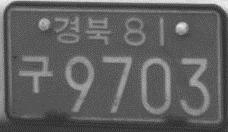0: (137, 57, 171, 115)
1: (156, 15, 167, 47)
3: (178, 56, 211, 119)
7: (99, 54, 134, 116)
8: (124, 16, 146, 48)
9: (62, 54, 96, 114)
경북_O: (52, 14, 111, 44)
구: (16, 54, 55, 95)
